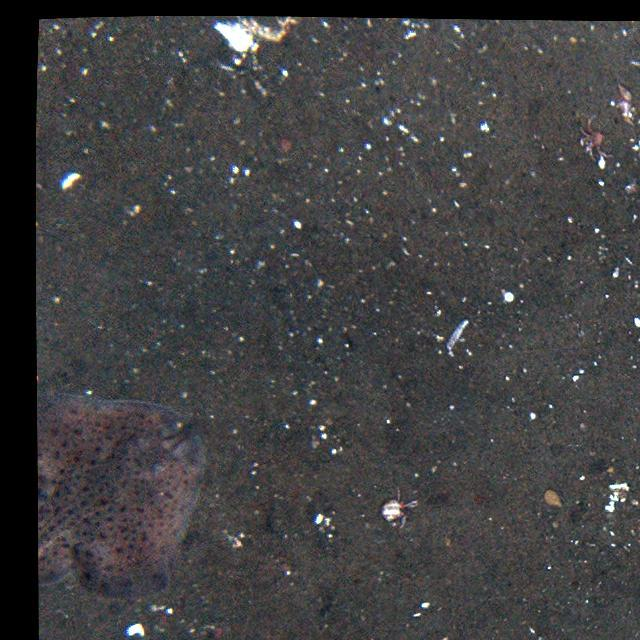skate: (33, 383, 201, 601)
